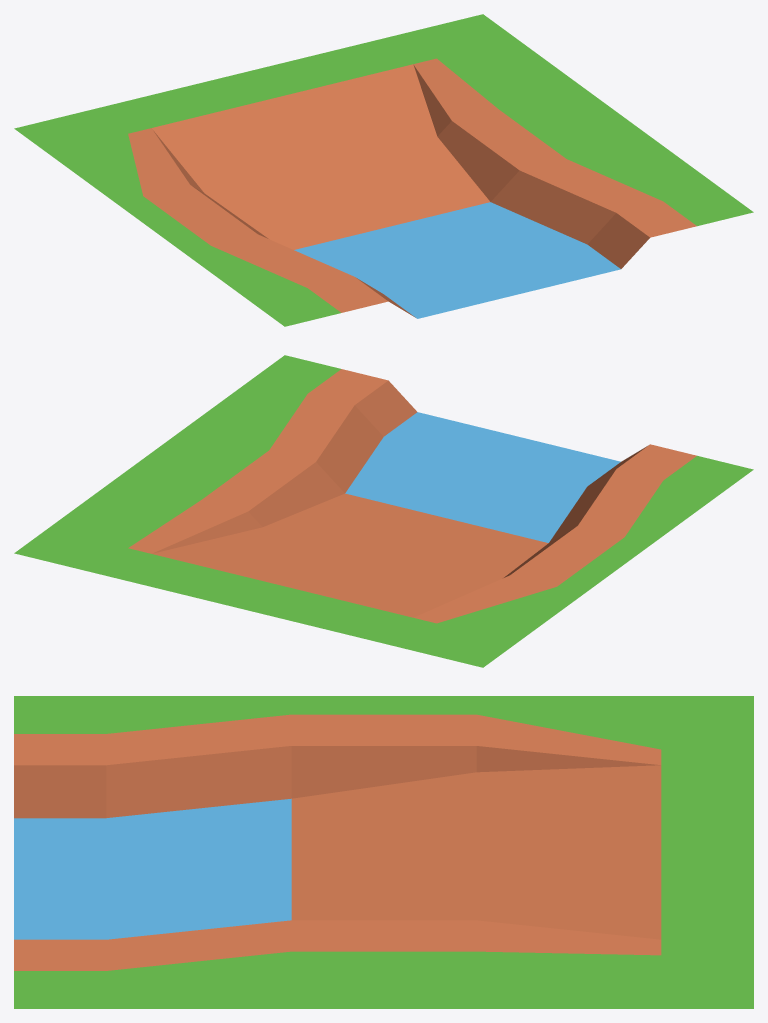
Rendered from ground_riverEnd.glb.
3 views of the same model, one above another, from view 1: azimuth 30°, elevation 25°; view 2: azimuth 150°, elevation 25°; view 3: azimuth 270°, elevation 25° (orthographic). The views are drawn at different scales.
Parts seen in each view (by area): view 1: ground_riverEnd; view 2: ground_riverEnd; view 3: ground_riverEnd.
Part boxes in pixels (x1,y1,x2,y2): ground_riverEnd: (14,14,753,326); ground_riverEnd: (14,355,753,667); ground_riverEnd: (14,696,753,1008).
Bounding box in the file's own units: 1 × 0.05 × 1.
